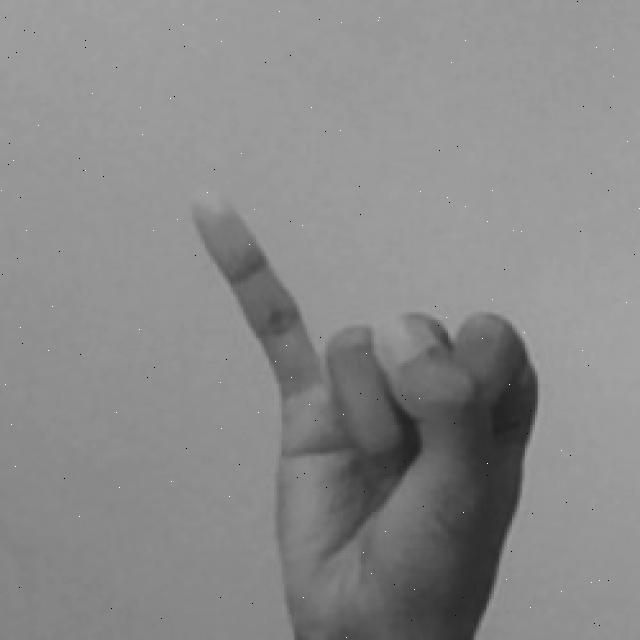I: (185, 184, 544, 640)
